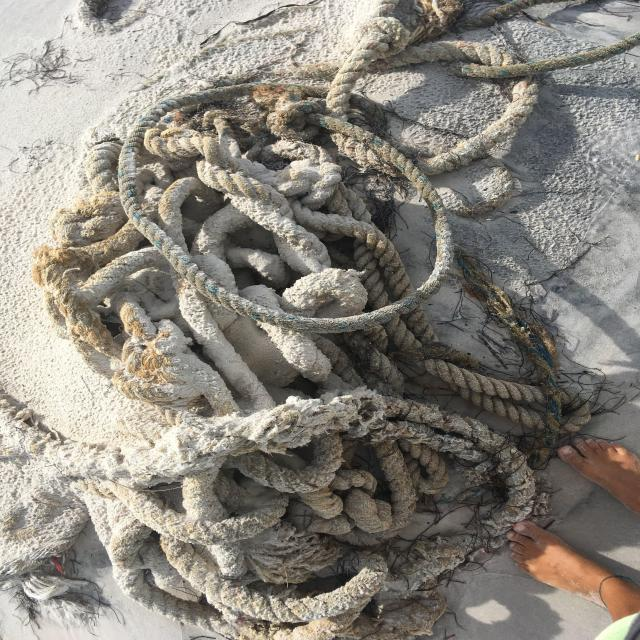litter: (6, 15, 629, 638)
